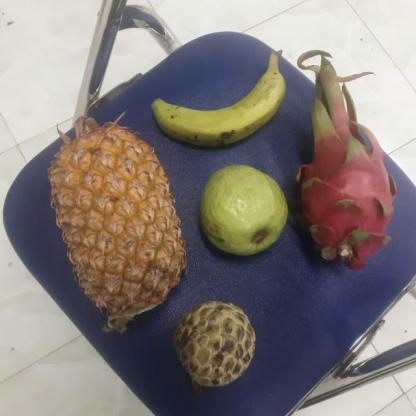annona: (169, 298, 256, 388)
banana: (149, 57, 282, 148)
guava: (194, 167, 290, 255)
pineapple: (46, 118, 183, 326)
pitaya: (288, 113, 398, 266)
